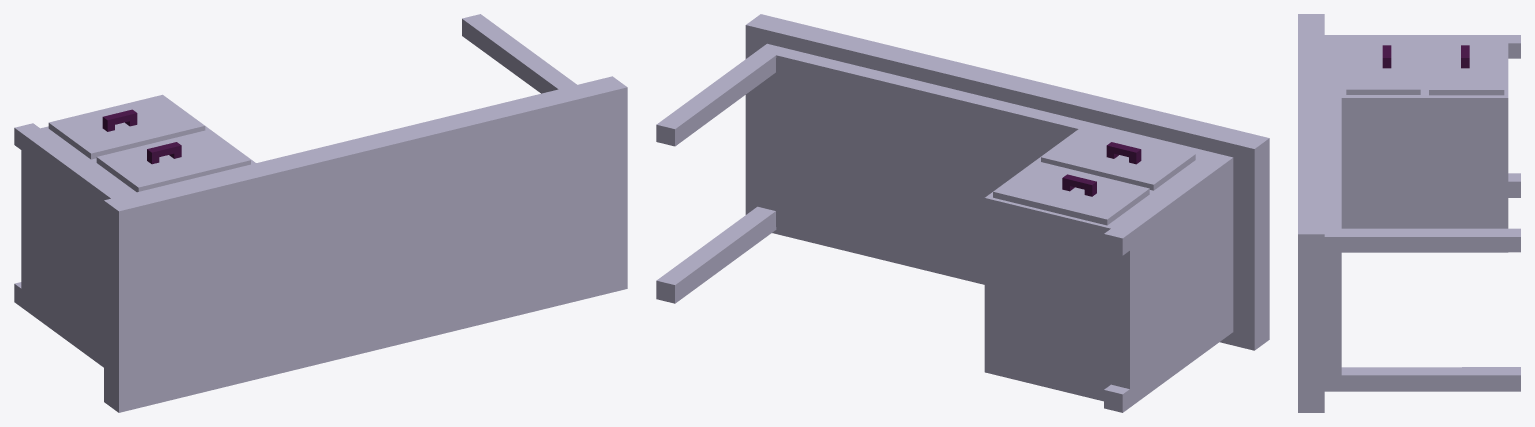
The model's file is ReceptionDesk.fbx.
3 views of the same model, side by side, from view 1: azimuth 30°, elevation 25°; view 2: azimuth 150°, elevation 25°; view 3: azimuth 270°, elevation 25° (orthographic). The views are drawn at different scales.
Parts seen in each view (by area): view 1: ReceptionDesk; view 2: ReceptionDesk; view 3: ReceptionDesk, DeskHandles000, DeskHandles000.001.
Boxes of the visible parts, x1,y1,x2,y2 form: ReceptionDesk: (14,14,627,412); ReceptionDesk: (656,14,1269,412); ReceptionDesk: (1298,14,1520,412); DeskHandles000: (1382,45,1391,68); DeskHandles000.001: (1461,45,1469,68).
Size of the model in its own units: 90176 by 34851 by 38583.
Materials: 2 (2 with a texture image).
